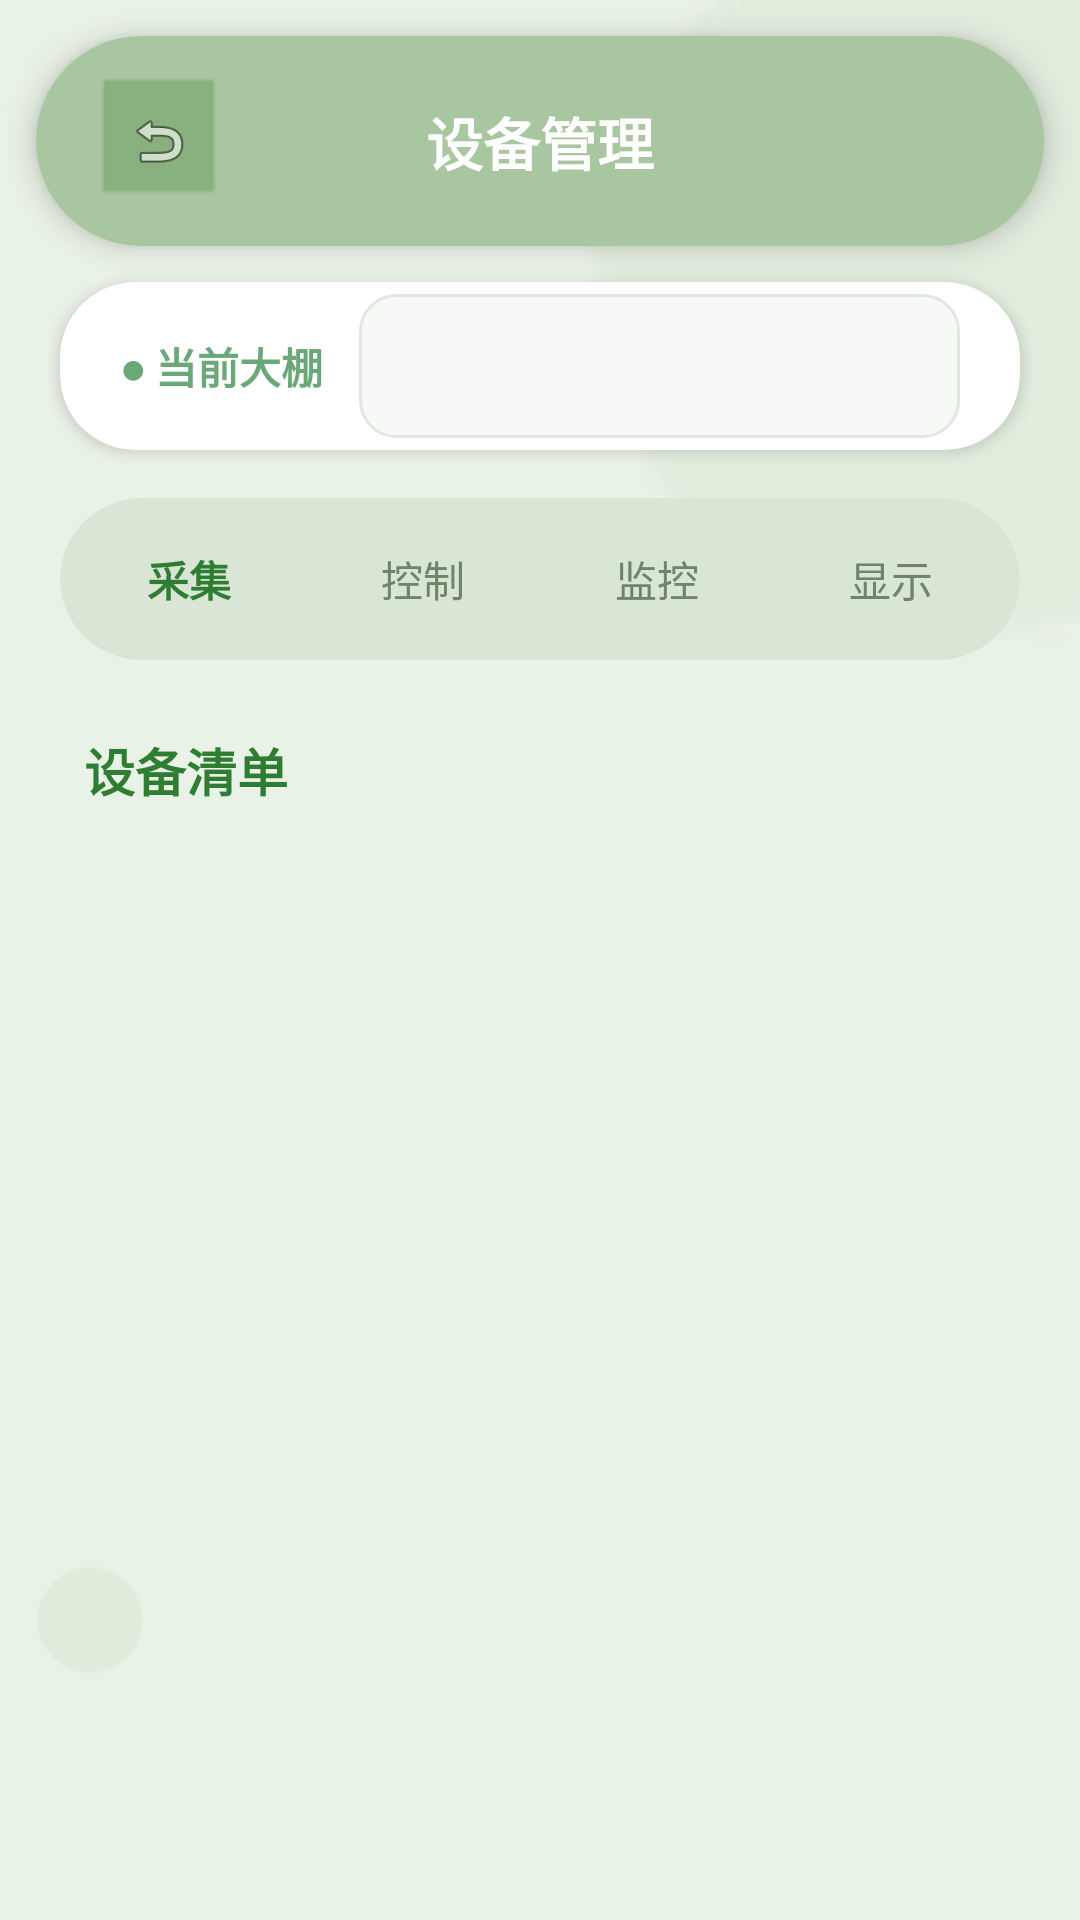

Where to tap for icons on this 1080px×1920px app screen, as point (x, y):
revert: point (158, 136)
